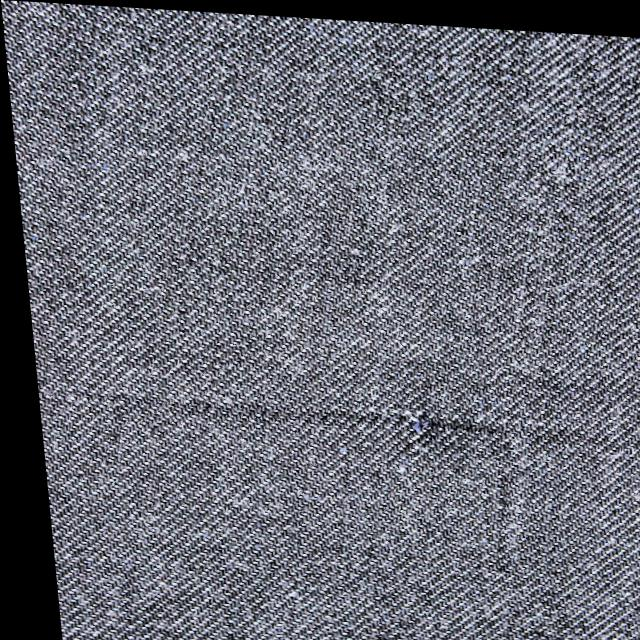Hole: (61, 393, 640, 440)
